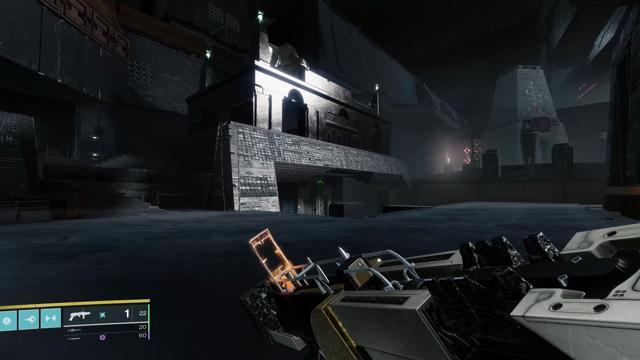brain: (597, 129, 607, 142)
stop: (537, 119, 549, 130)
